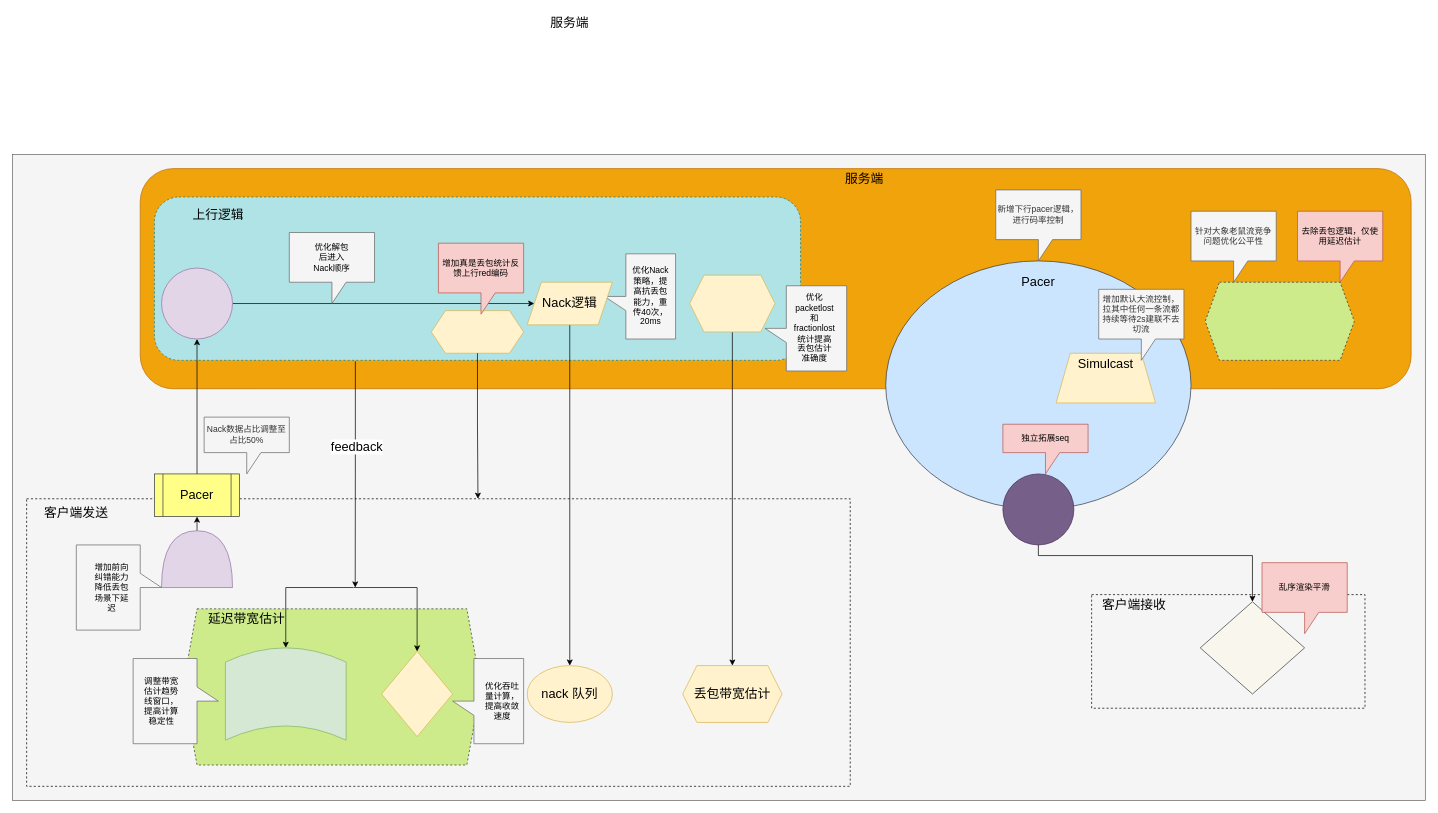
The diagram is 1438 pixels wide and 813 high, and some of its shapes have lost their labels. The shapes that lost their labels are listed below. From the top down, each one's box as (x1, y1, x2, y2) in pixels, then its label:
(161, 267, 233, 339): Fec + Red解包
(689, 274, 775, 332): RR统计
(1205, 282, 1354, 360): 下行带宽估计
(431, 310, 524, 353): 真实丢包反馈
(1002, 473, 1074, 545): seq manager
(161, 530, 233, 588): Fec + Red
(1200, 601, 1305, 694): jitter
(225, 647, 346, 740): 趋势线
(381, 651, 453, 737): ack 模块
